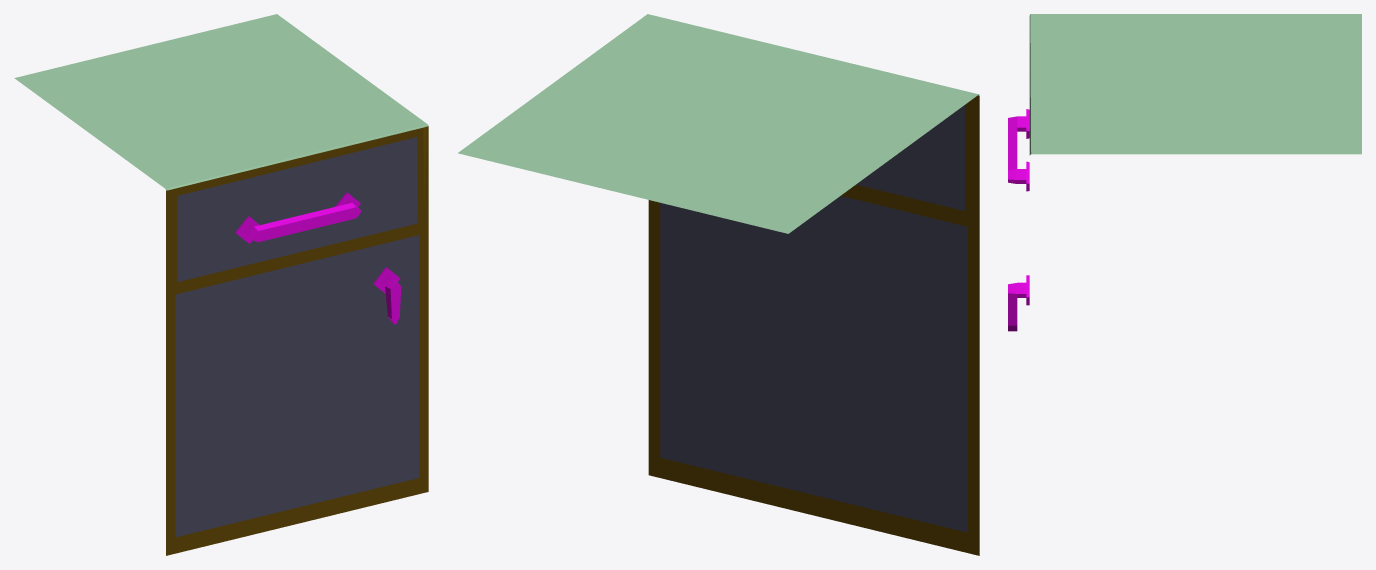
The model's file is Encimera.fbx.
3 views of the same model, side by side, from view 1: azimuth 30°, elevation 25°; view 2: azimuth 150°, elevation 25°; view 3: azimuth 270°, elevation 25° (orthographic). The views are drawn at different scales.
Visible parts, largest first — view 1: Encimera; view 2: Encimera; view 3: Encimera.
Boxes of the visible parts, <box> form: Encimera: <box>14,14,428,555</box>; Encimera: <box>458,14,979,555</box>; Encimera: <box>1008,14,1361,331</box>.
Size of the model in its own units: 75 by 100 by 79.89.
